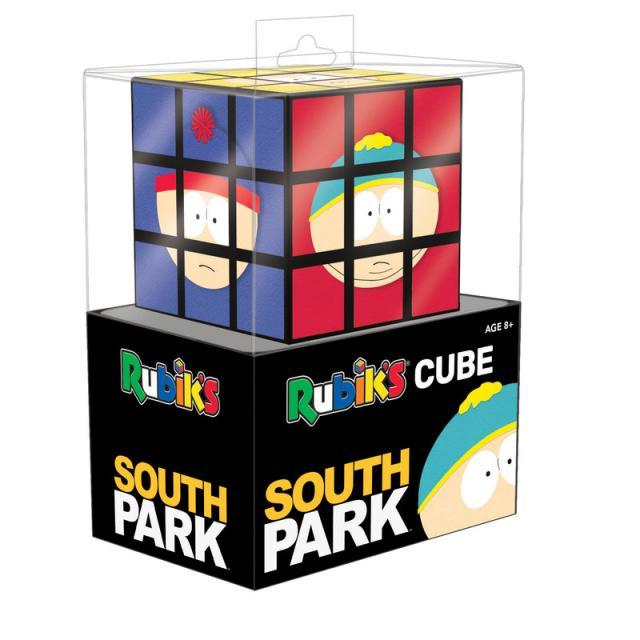Rub: (126, 62, 468, 341)
